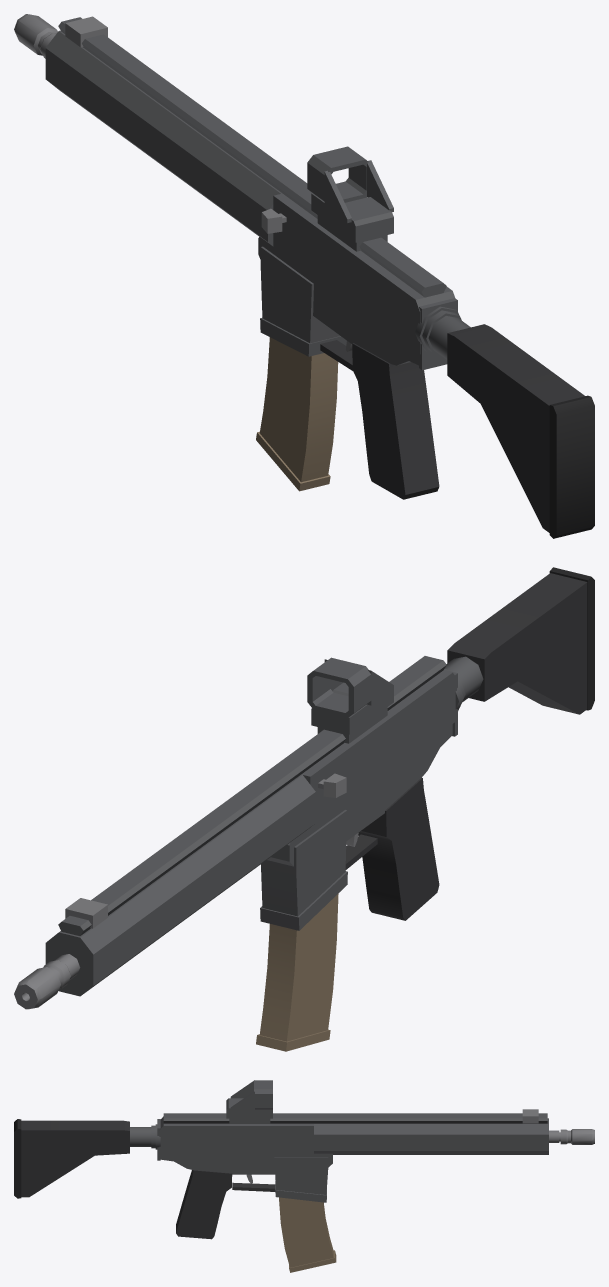
The model's file is carbine_world.glb.
3 renders of one model, top to bottom at view 1: azimuth 30°, elevation 25°; view 2: azimuth 150°, elevation 25°; view 3: azimuth 270°, elevation 25°, orthographic. The views are drawn at different scales.
Visible parts, largest first — view 1: body; view 2: body; view 3: body.
Boxes of the visible parts, x1,y1,x2,y2 form: body: (14, 14, 594, 538); body: (14, 567, 594, 1051); body: (14, 1080, 594, 1272).
Size of the model in its own units: 0.053 by 0.2787 by 0.796.
